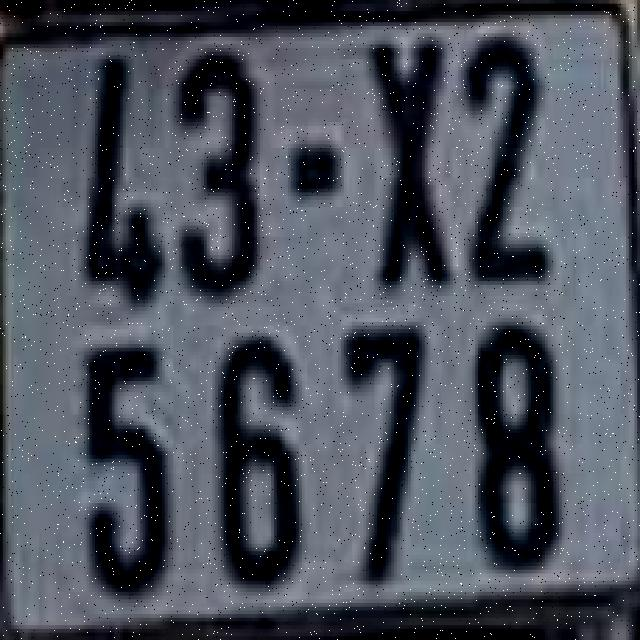2: (464, 29, 553, 285)
3: (172, 46, 264, 302)
4: (78, 48, 168, 311)
5: (80, 337, 174, 596)
6: (215, 328, 305, 586)
7: (341, 318, 428, 585)
8: (472, 318, 562, 570)
X: (369, 35, 450, 287)
